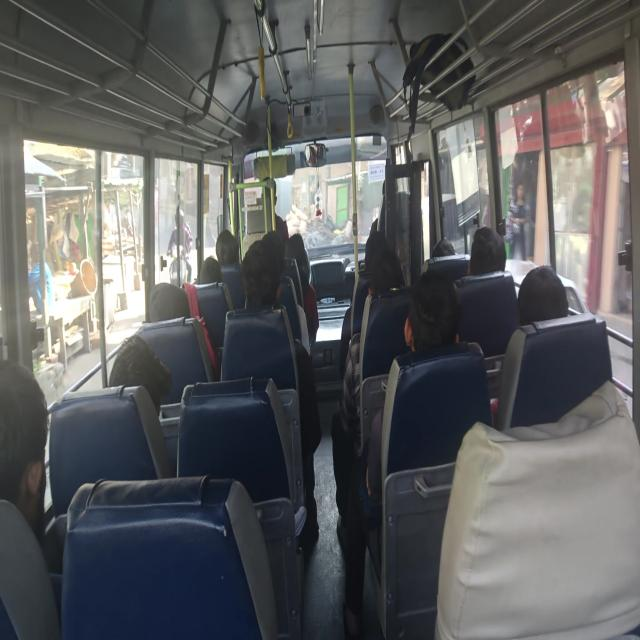person: (0, 361, 51, 557), (510, 255, 580, 354), (399, 270, 458, 368), (110, 328, 166, 428), (235, 246, 279, 315), (462, 231, 505, 282), (151, 278, 185, 341), (370, 245, 400, 301), (199, 250, 224, 292), (364, 223, 388, 266), (216, 229, 236, 279), (258, 227, 279, 272), (431, 236, 459, 257), (284, 242, 300, 274)
